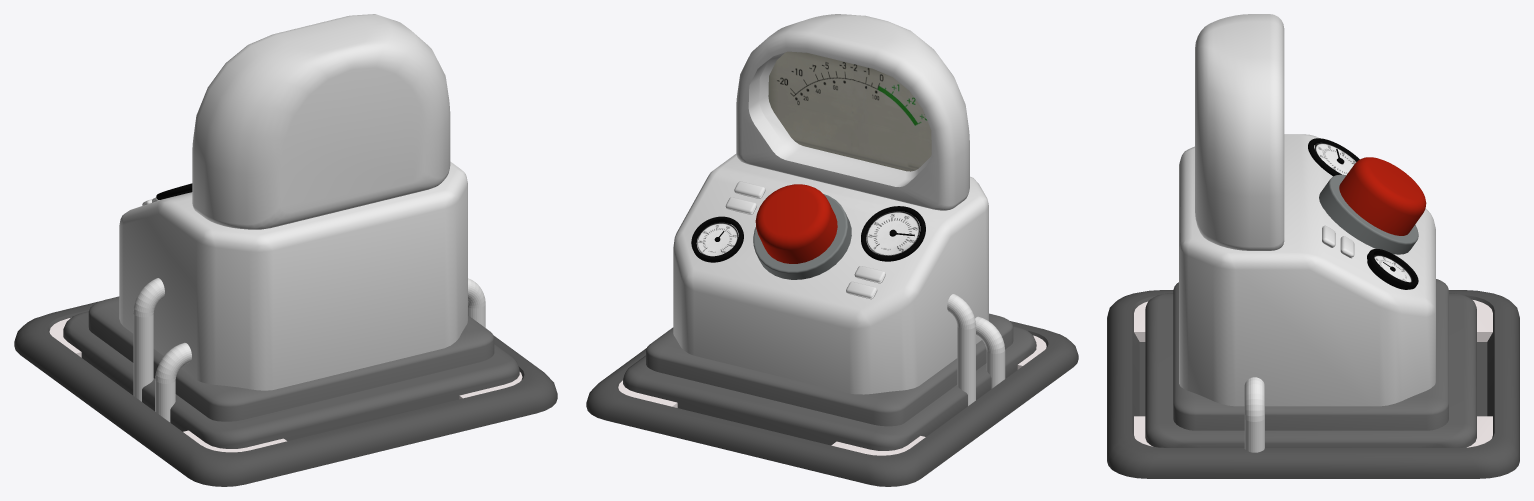
The model's file is ButtonSlot.fbx.
3 renders of one model, left to right at view 1: azimuth 30°, elevation 25°; view 2: azimuth 150°, elevation 25°; view 3: azimuth 270°, elevation 25°, orthographic. The views are drawn at different scales.
Visible parts, largest first — view 1: Cube.012, Cube.019, Plane.002, Cylinder.028, Cube.018, Cylinder.023, Cylinder.024; view 2: Cube.012, Cube.019, Plane.002, Cylinder.028, Cube.018, Cylinder.022, Cylinder.020, Cylinder.023, chess.match,objects.000, chess.match,objects.001, Cylinder.024, Torus.001; view 3: Cube.012, Plane.002, Cube.019, Cylinder.028, Cube.018, Cylinder.022, Cylinder.020, Cylinder.024, chess.match,objects.000, chess.match,objects.001, Torus.001.
Boxes of the visible parts, x1,y1,x2,y2 form: Cube.012: (119,161,467,390); Cube.019: (192,14,450,229); Plane.002: (14,301,557,486); Cylinder.028: (63,311,519,448); Cube.018: (88,296,494,421); Cylinder.023: (133,278,164,401); Cylinder.024: (155,278,485,422); Cube.012: (673,154,988,394); Cube.019: (736,14,969,210); Plane.002: (586,321,1078,486); Cylinder.028: (623,326,1036,450); Cube.018: (646,313,1013,426); Cylinder.022: (755,184,837,263); Cylinder.020: (753,194,851,279); Cylinder.023: (947,294,975,405); chess.match,objects.000: (691,216,743,262); chess.match,objects.001: (866,211,919,255); Cylinder.024: (975,316,1005,388); Torus.001: (861,206,925,261); Cube.012: (1179,134,1435,406); Plane.002: (1107,290,1519,478); Cube.019: (1195,14,1284,250); Cylinder.028: (1145,293,1476,447); Cube.018: (1173,279,1448,430); Cylinder.022: (1339,157,1426,235); Cylinder.020: (1319,174,1418,254); Cylinder.024: (1244,377,1264,452); chess.match,objects.000: (1367,249,1418,289); chess.match,objects.001: (1314,142,1356,175); Torus.001: (1308,138,1359,176).
Size of the model in its own units: 100 by 97.8 by 100.
